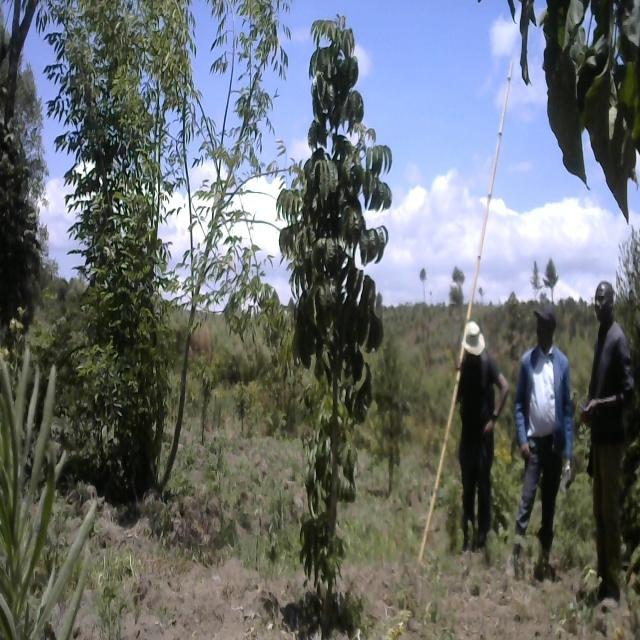Podocarpus falcatus: (1, 349, 98, 640)
Vitex keniensis: (275, 16, 397, 621)
other: (34, 0, 252, 489)
